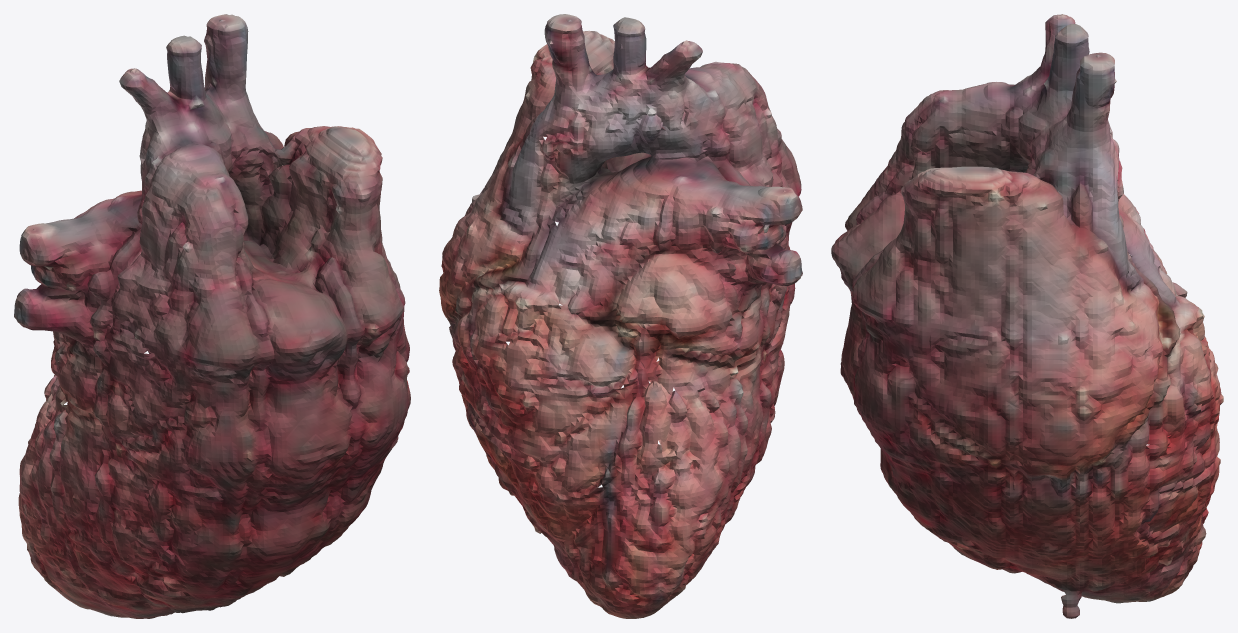
The model's file is heart.glb.
3 renders of one model, left to right at view 1: azimuth 30°, elevation 25°; view 2: azimuth 150°, elevation 25°; view 3: azimuth 270°, elevation 25°, orthographic. The views are drawn at different scales.
Visible parts, largest first — view 1: world; view 2: world; view 3: world.
Part boxes in pixels (<box>): world: <box>14,14,410,618</box>; world: <box>439,14,802,618</box>; world: <box>831,14,1223,618</box>.
Size of the model in its own units: 0.6524 by 1 by 0.6116.
